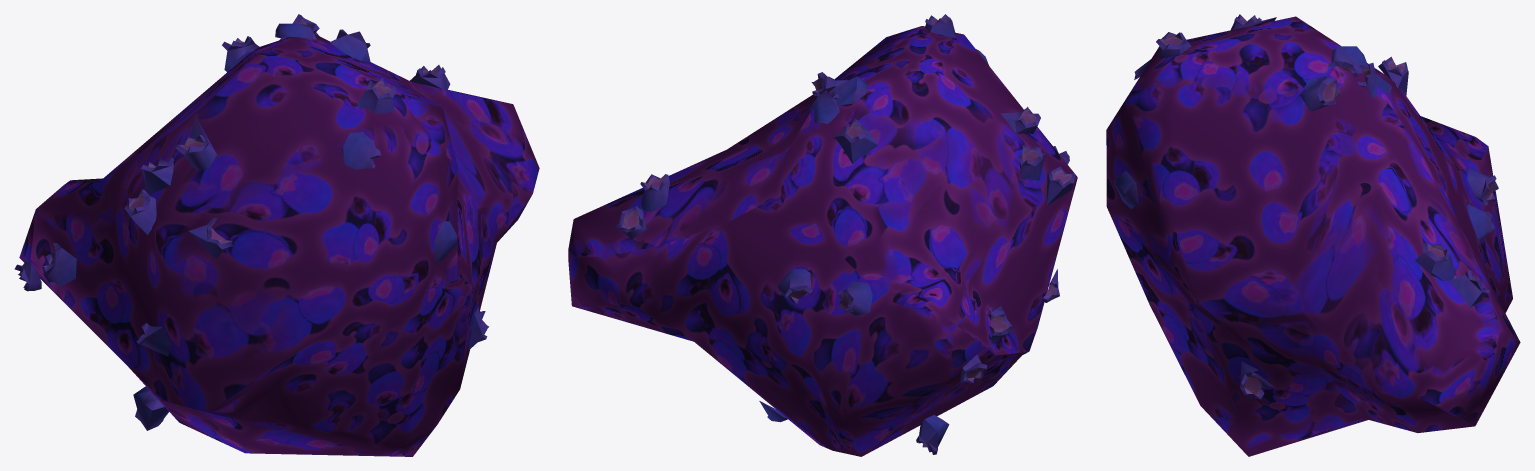
File: env_building_blueberrypile_lod2.fbx
3 renders of one model, left to right at view 1: azimuth 30°, elevation 25°; view 2: azimuth 150°, elevation 25°; view 3: azimuth 270°, elevation 25°, orthographic. The views are drawn at different scales.
Parts seen in each view (by area): view 1: env_building_blueberrypile_lod2; view 2: env_building_blueberrypile_lod2; view 3: env_building_blueberrypile_lod2.
Part boxes in pixels (<box>): env_building_blueberrypile_lod2: <box>14,14,539,456</box>; env_building_blueberrypile_lod2: <box>568,14,1077,456</box>; env_building_blueberrypile_lod2: <box>1106,14,1520,456</box>.
Size of the model in its own units: 18.44 by 14.66 by 14.12.
